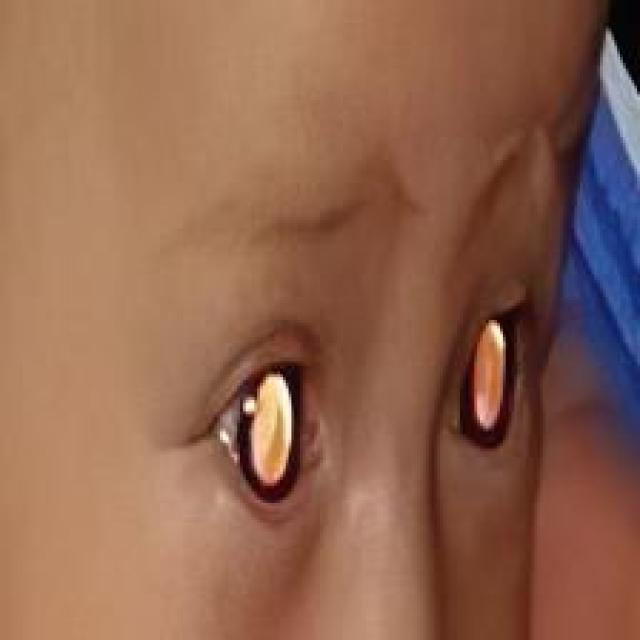reflexo-alterado: (178, 331, 343, 545), (427, 286, 540, 470)
